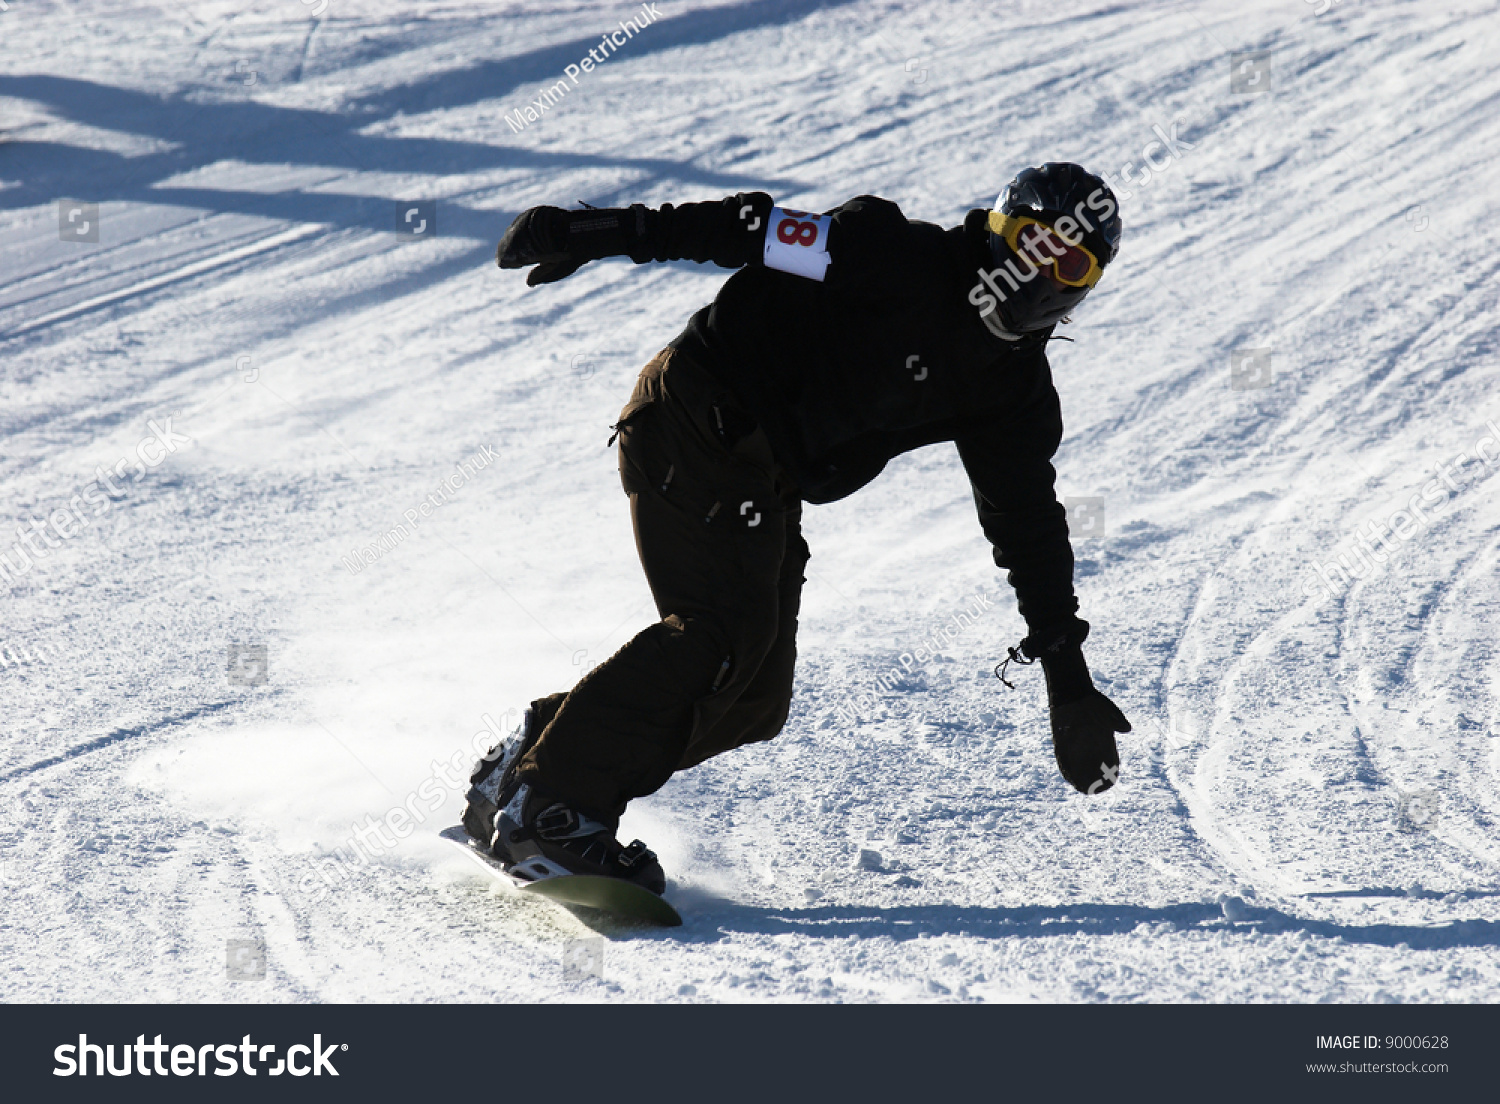snowboarder: (438, 162, 1149, 941)
